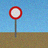sign: (9, 6, 22, 37)
